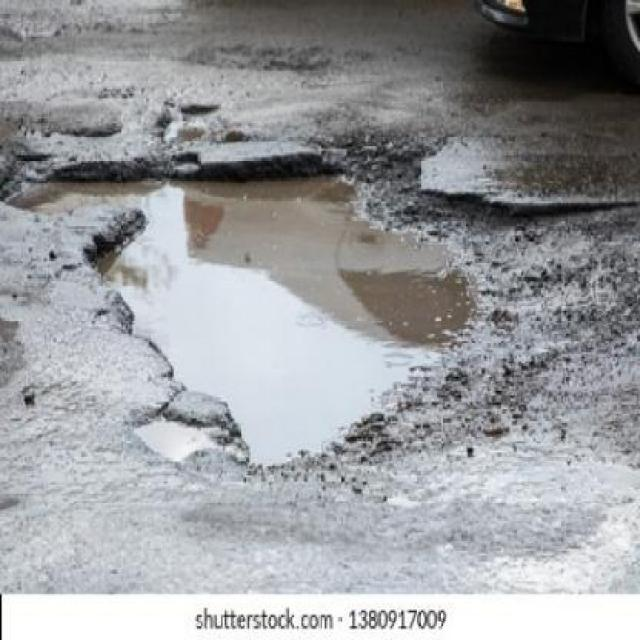Pothole: (1, 151, 514, 475)
